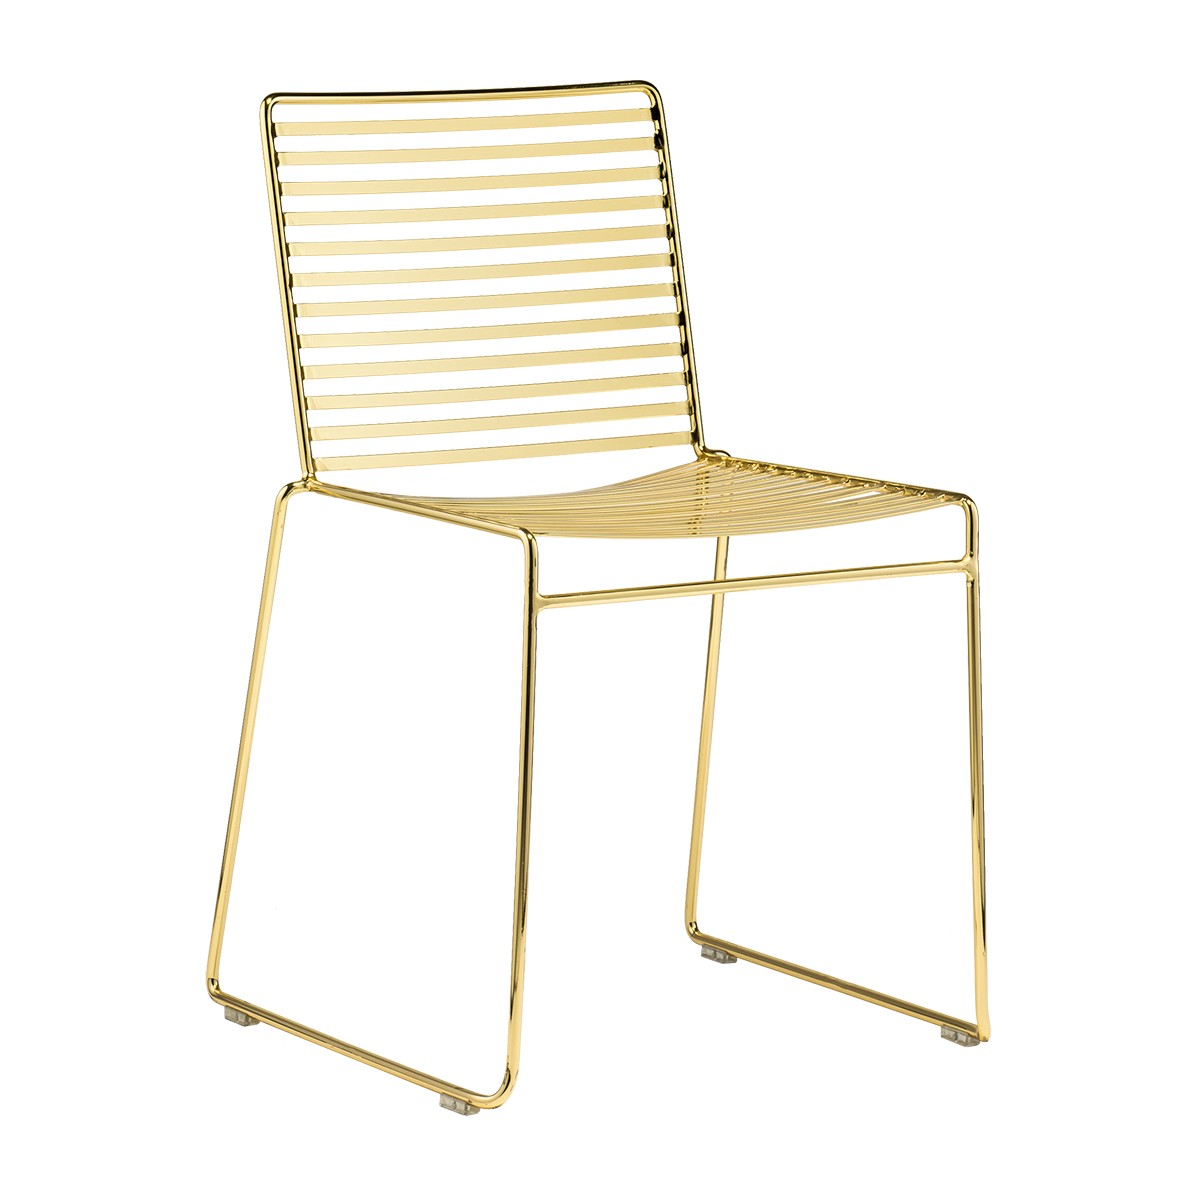chairs: (198, 78, 1011, 1116)
